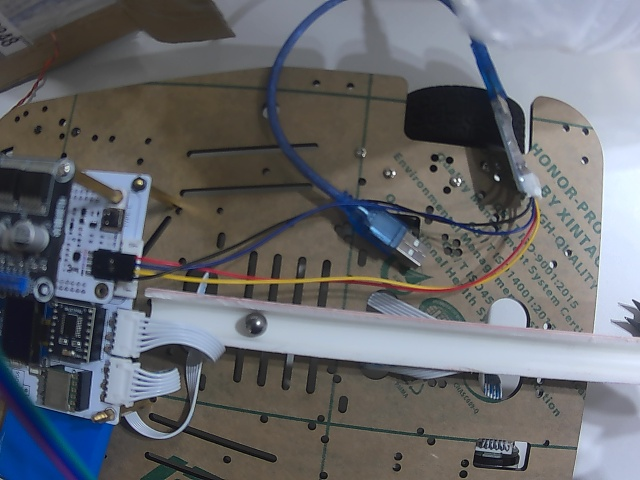steelball: (244, 313, 267, 335)
